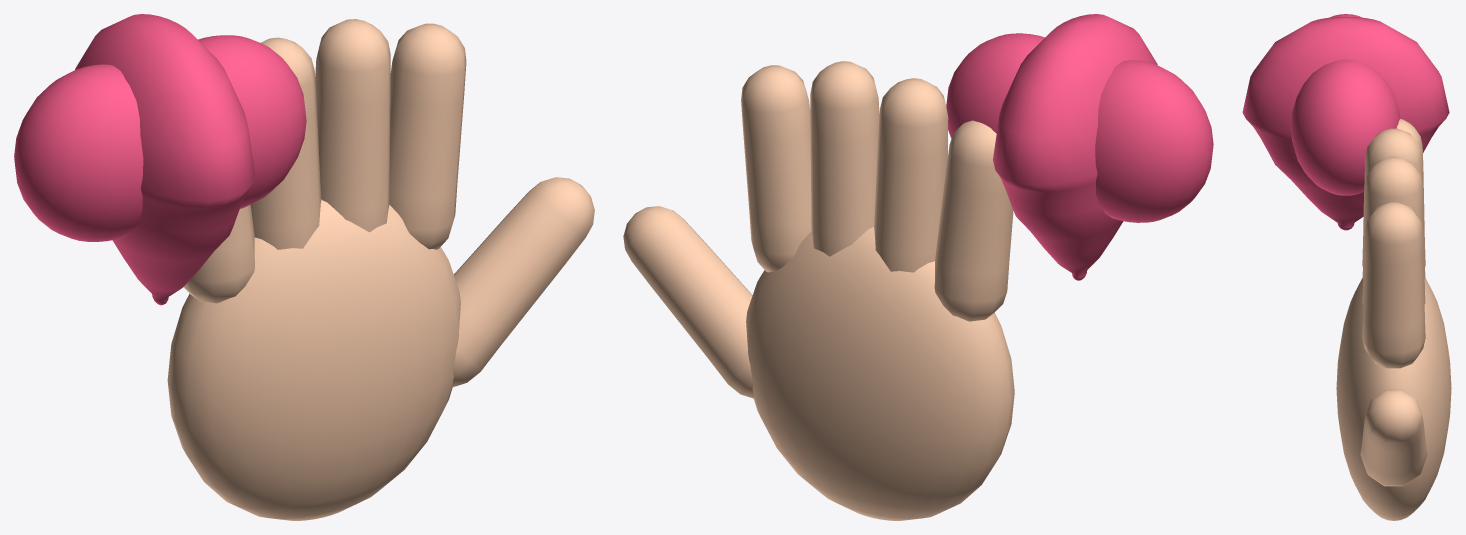
File: icon_pet.glb
3 views of the same model, side by side, from view 1: azimuth 30°, elevation 25°; view 2: azimuth 150°, elevation 25°; view 3: azimuth 270°, elevation 25° (orthographic). The views are drawn at different scales.
Parts seen in each view (by area): view 1: icon_pet; view 2: icon_pet; view 3: icon_pet.
Part boxes in pixels (bbox=[...]): icon_pet: bbox=[14, 14, 594, 520]; icon_pet: bbox=[623, 14, 1213, 520]; icon_pet: bbox=[1242, 14, 1451, 520].
Size of the model in its own units: 0.5453 by 0.486 by 0.218.
